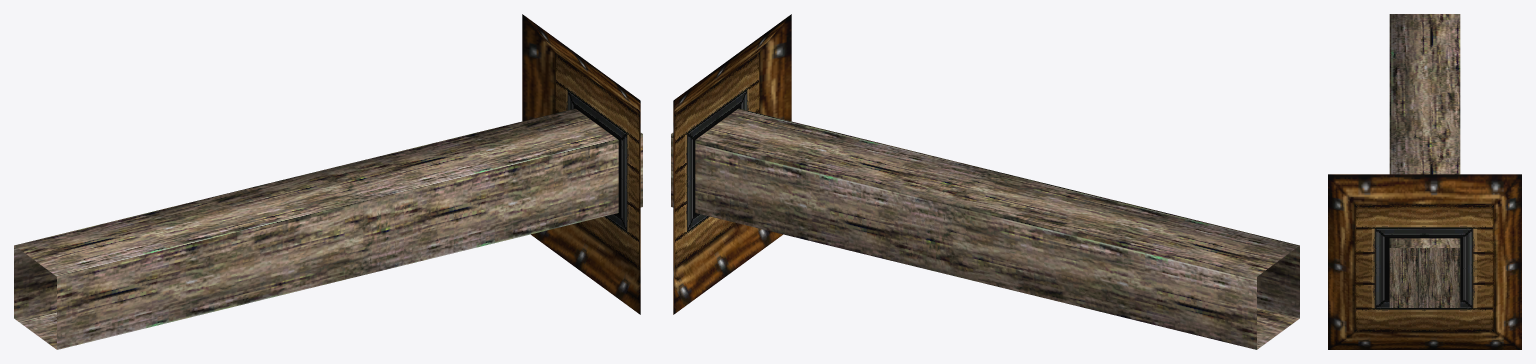
Rendered from INST_WH2_PUSH_POST.fbx.
The picture shows the model from 3 angles, left to right: view 1: azimuth 30°, elevation 25°; view 2: azimuth 150°, elevation 25°; view 3: azimuth 270°, elevation 25°; orthographic projection. The views are drawn at different scales.
Parts seen in each view (by area): view 1: INST_WH2_PUSH_POST; view 2: INST_WH2_PUSH_POST; view 3: INST_WH2_PUSH_POST.
Boxes of the visible parts, x1,y1,x2,y2 form: INST_WH2_PUSH_POST: (14, 14, 642, 349); INST_WH2_PUSH_POST: (671, 14, 1299, 349); INST_WH2_PUSH_POST: (1328, 14, 1521, 349).
Bounding box in the file's own units: 41120 × 14387 × 14387.
3 materials, 3 textured.
